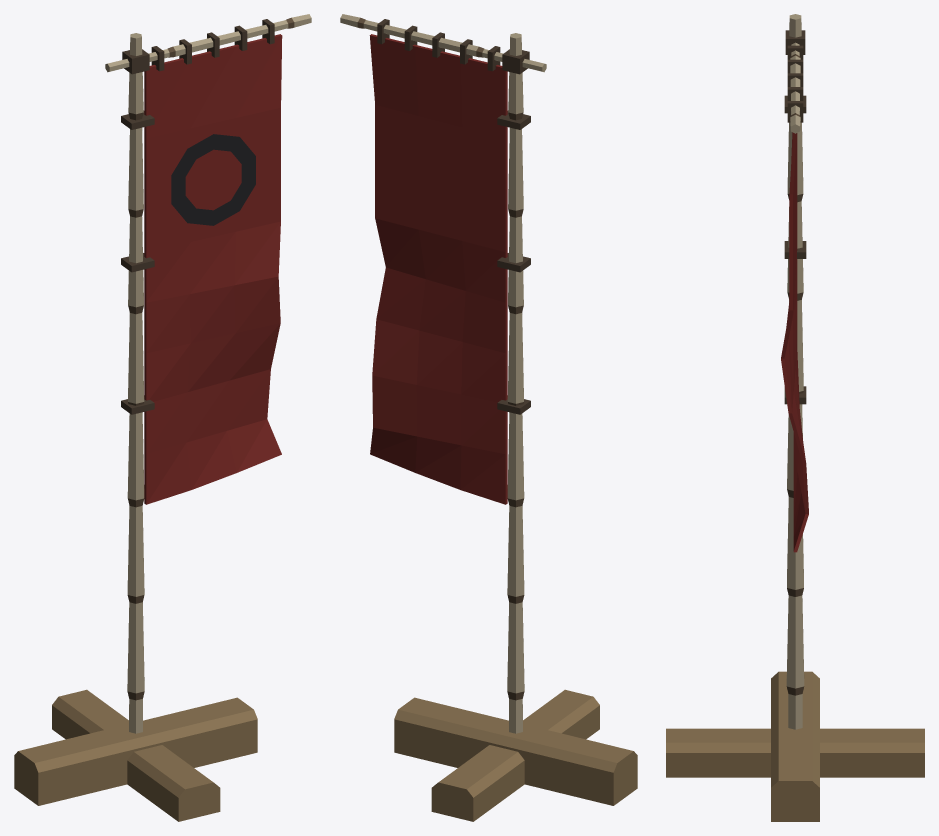
Rendered from nobori-banner-ae4d88.glb.
3 views of the same model, side by side, from view 1: azimuth 30°, elevation 25°; view 2: azimuth 150°, elevation 25°; view 3: azimuth 270°, elevation 25° (orthographic). The views are drawn at different scales.
Visible parts, largest first — view 1: banner-cloth-mesh, standard; view 2: banner-cloth-mesh, standard; view 3: standard, banner-cloth-mesh.
Part boxes in pixels (box(x1,y1,x2,y2)): banner-cloth-mesh: box(121, 19, 282, 504); standard: box(14, 14, 311, 821); banner-cloth-mesh: box(369, 19, 530, 504); standard: box(340, 14, 637, 821); standard: box(666, 14, 924, 821); banner-cloth-mesh: box(781, 45, 808, 552).
Bounding box in the file's own units: 1.29 × 3.2 × 1.
